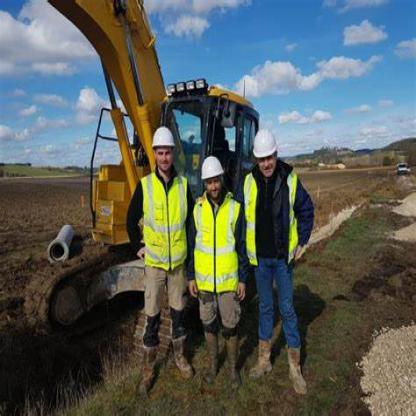person: (242, 108, 314, 400), (125, 112, 195, 392), (194, 144, 247, 388)
